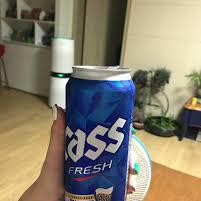beer: (62, 66, 133, 201)
